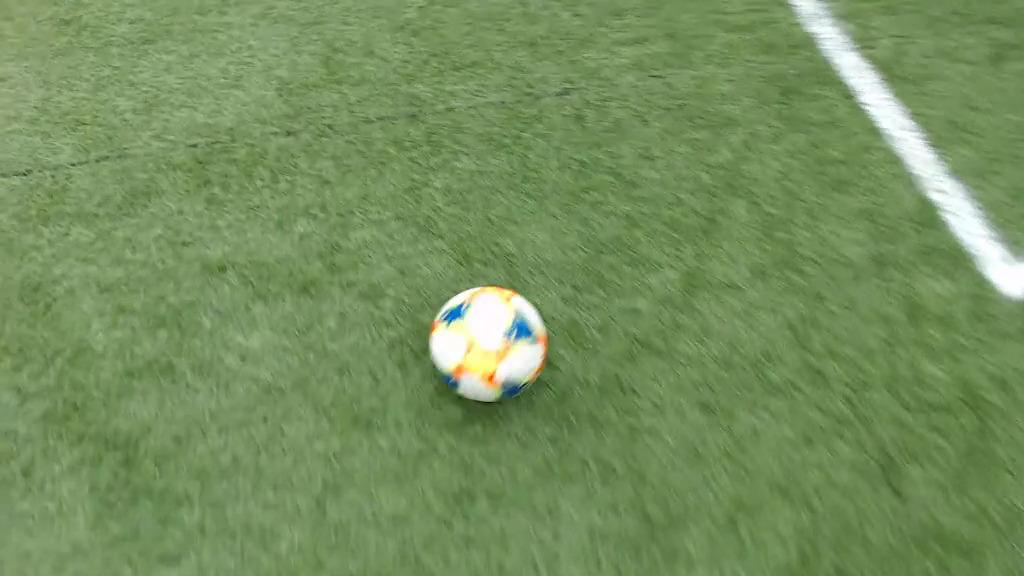ball: (430, 285, 549, 404)
